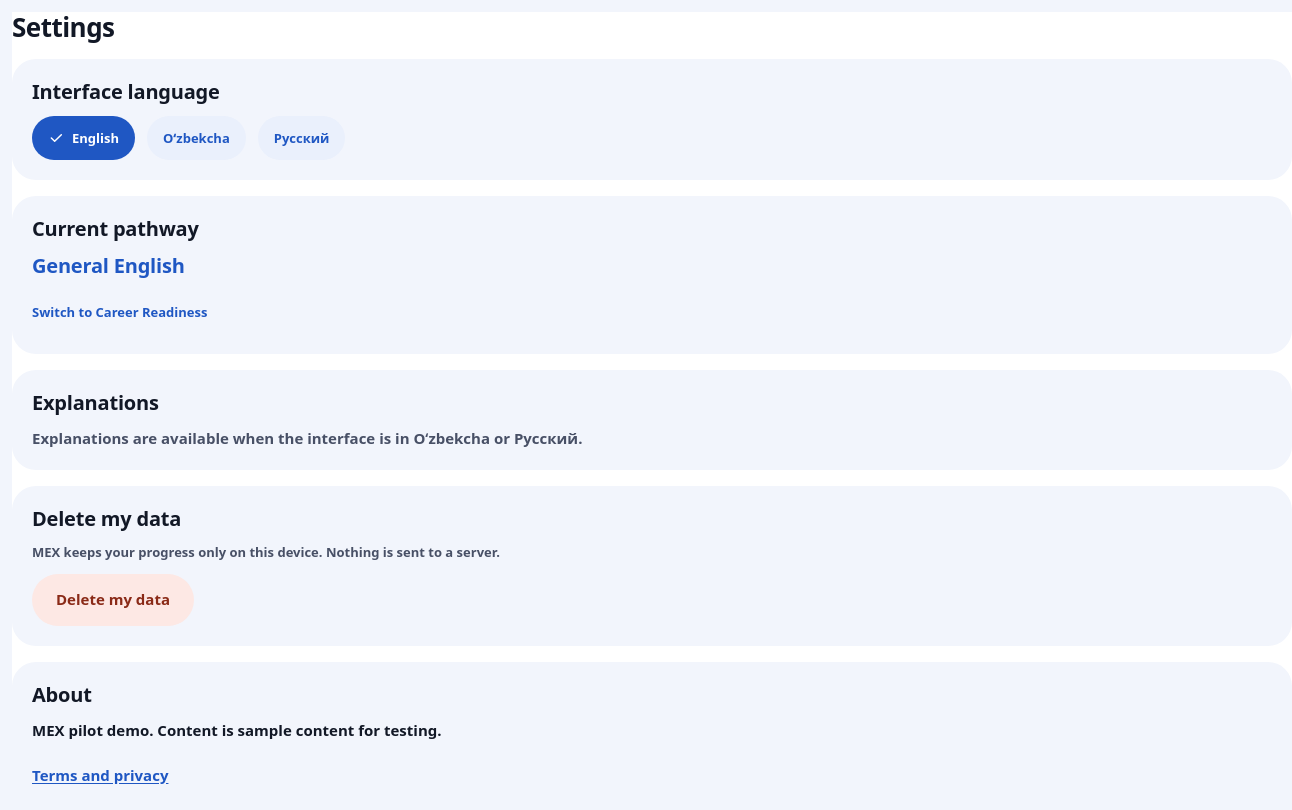
it: SettingsPage › switches the pathway after the in-card confirmation and keeps progress
Click the button "Switch to Career Readiness" at (120, 312), box [16,290,224,334]
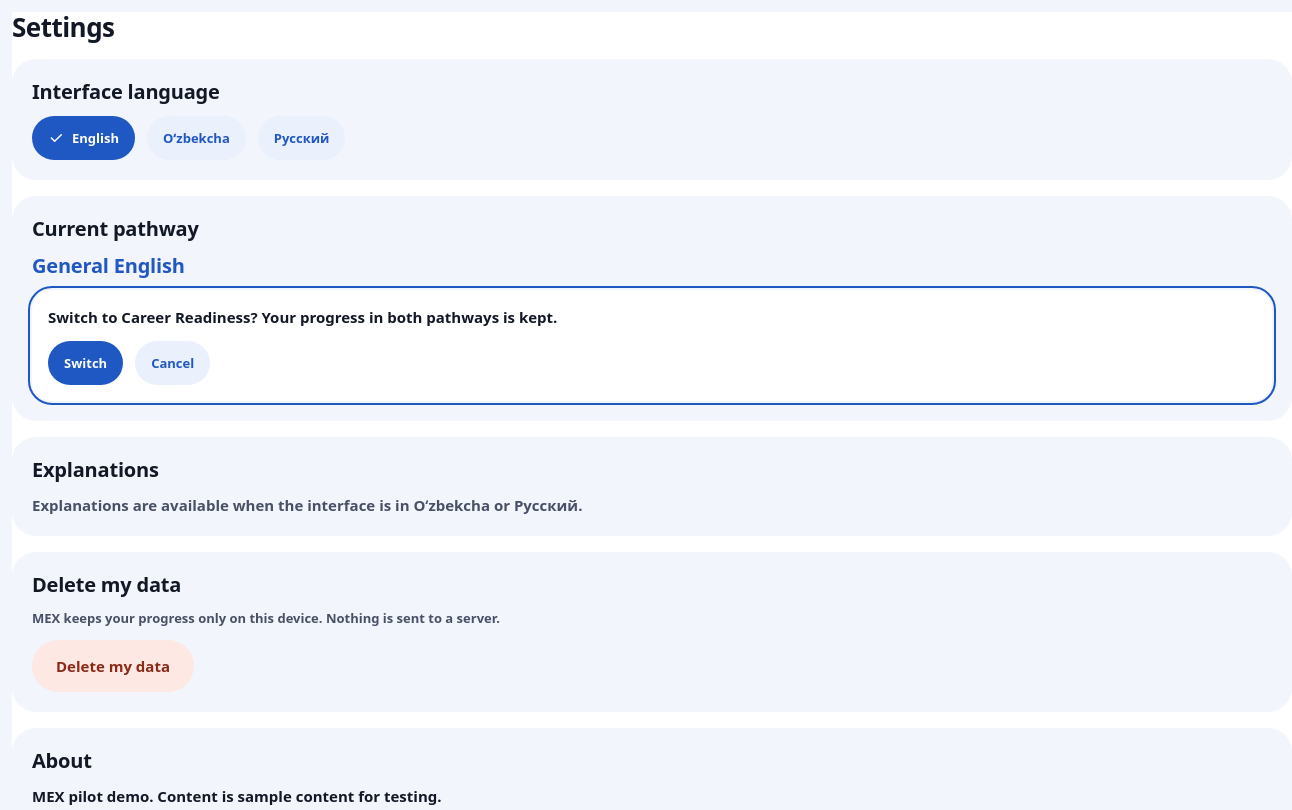
Check: the text "Switch to Career Readiness? Your progress in both pathways is kept." is shown, box [48,307,557,327]
Click the button "Switch" at (86, 363), box [48,341,123,385]
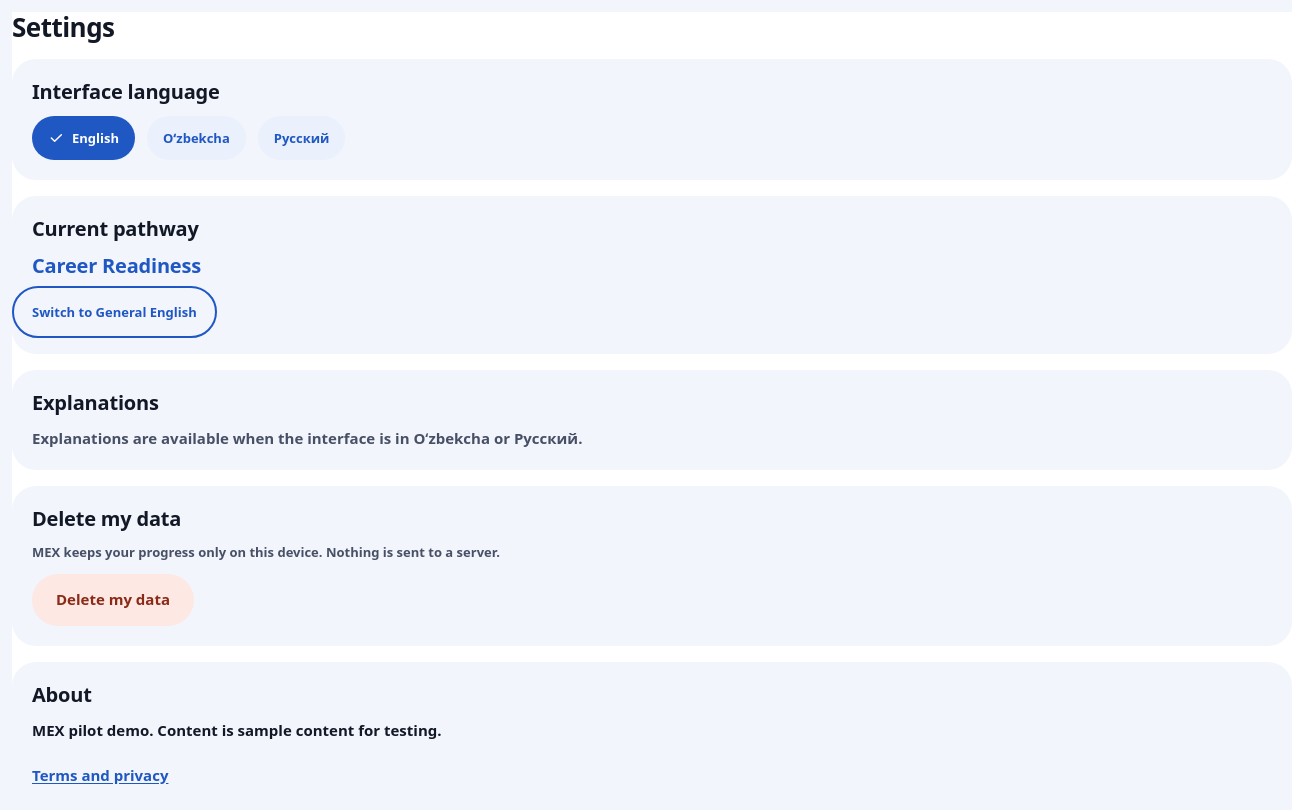
Check: the text "Career Readiness" is shown, box [32,252,201,279]
